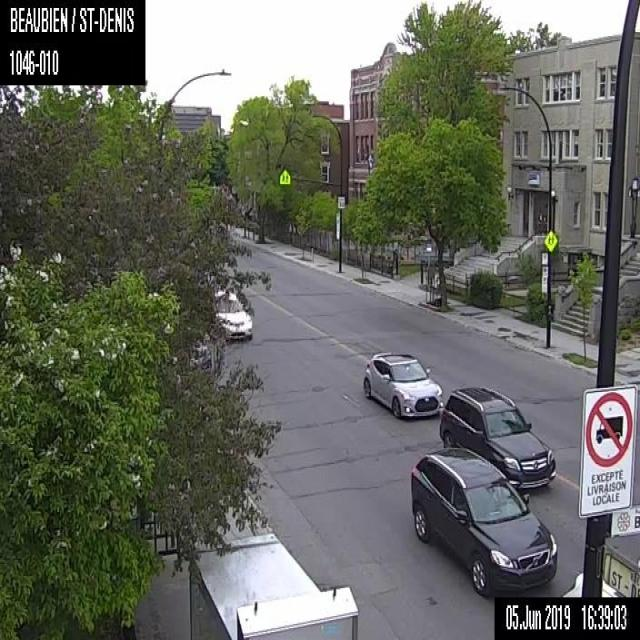vehicle: (410, 447, 558, 597), (439, 384, 555, 492), (362, 349, 442, 418), (217, 288, 253, 340), (559, 569, 582, 596)
